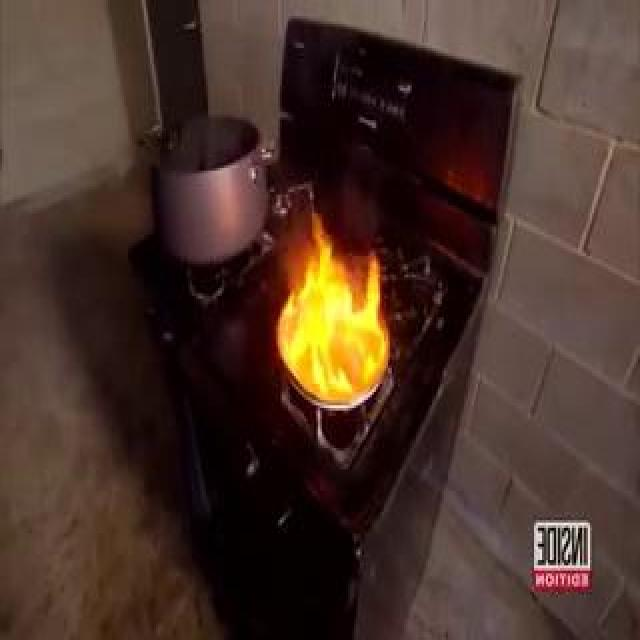Fire: (254, 172, 392, 409)
